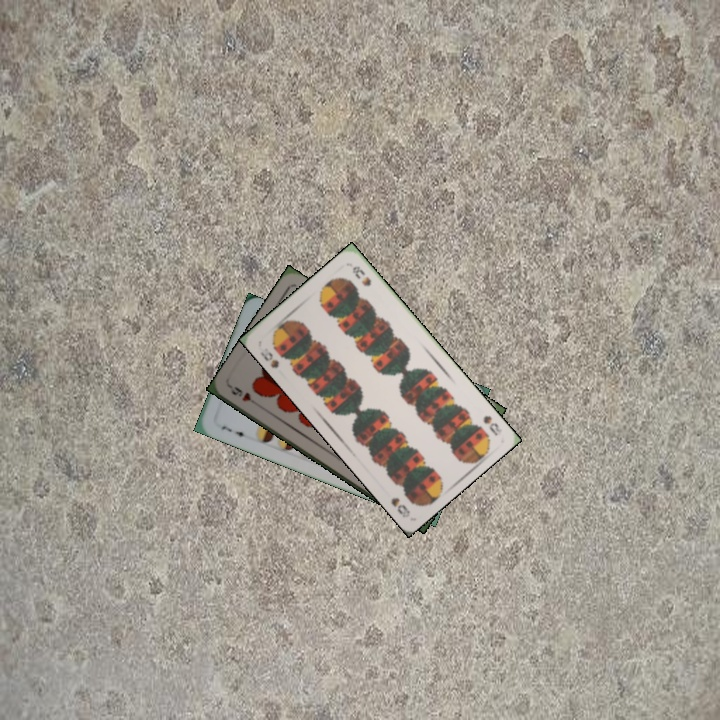E7: (217, 422, 250, 441)
H9: (226, 382, 262, 409)
S8: (479, 412, 505, 439), (256, 347, 282, 371)
